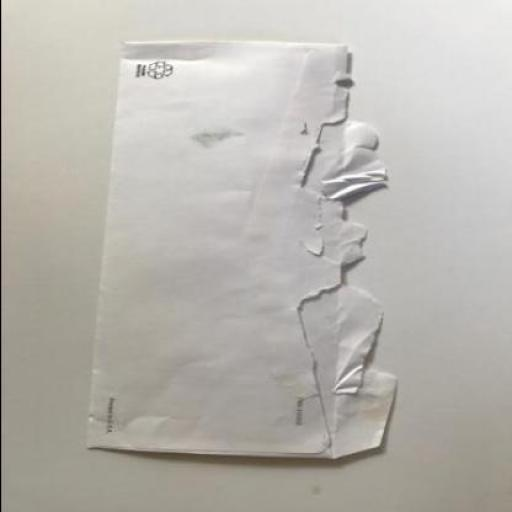paper: (86, 39, 398, 458)
